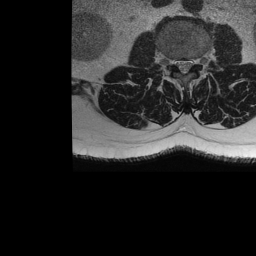CCS_normal: (180, 52, 187, 80)
LFS_normal: (194, 49, 200, 71)
LLS_stenosis: (188, 51, 195, 75)
RFS_normal: (166, 49, 174, 71)
RLS_stenosis: (174, 53, 180, 74)
